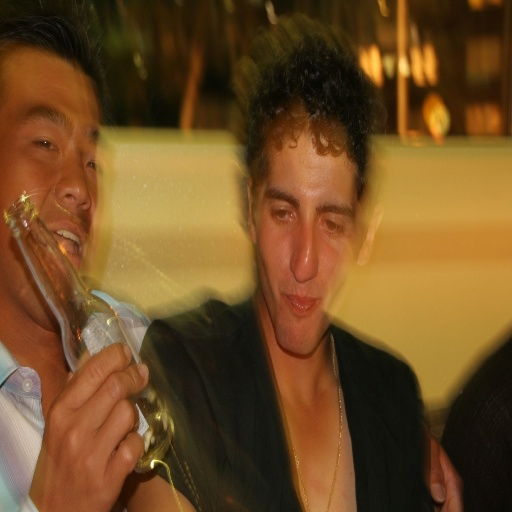hand: (25, 328, 162, 499), (426, 437, 463, 511)
